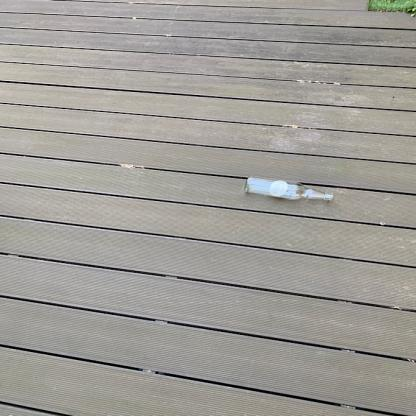trash: (240, 174, 336, 204)
